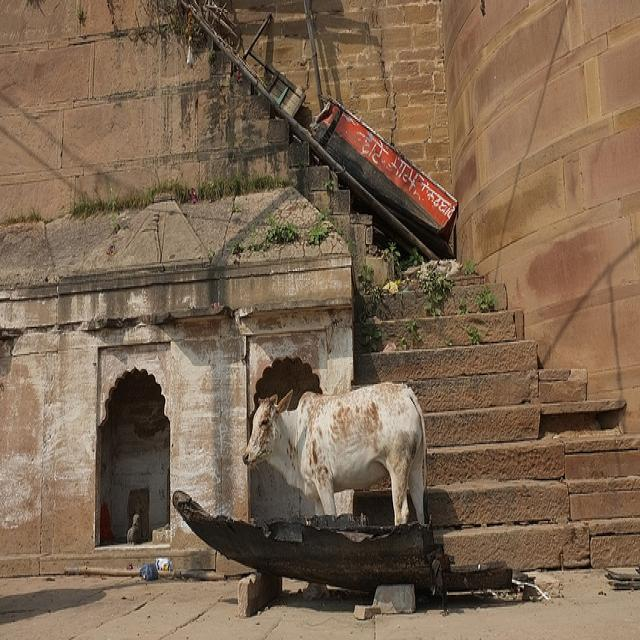cow: (241, 381, 428, 527)
